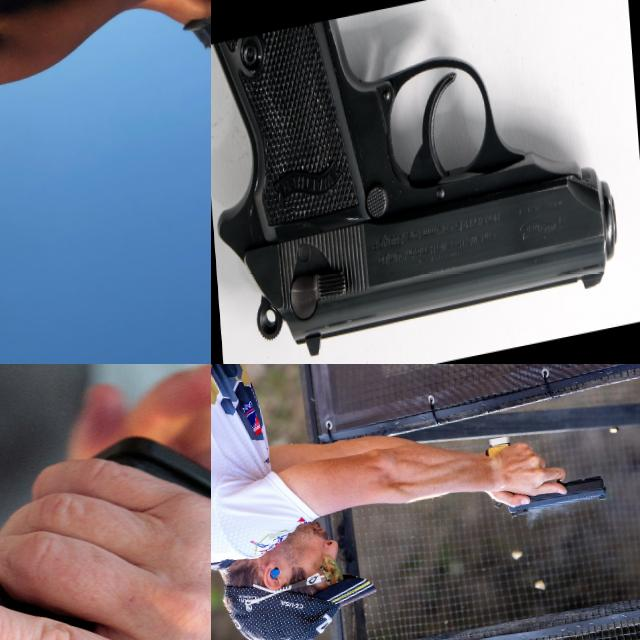handgun: (211, 0, 624, 364), (0, 420, 211, 640), (476, 419, 610, 522)
